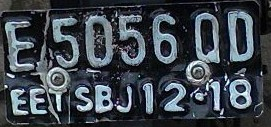plate: (2, 11, 262, 117)
